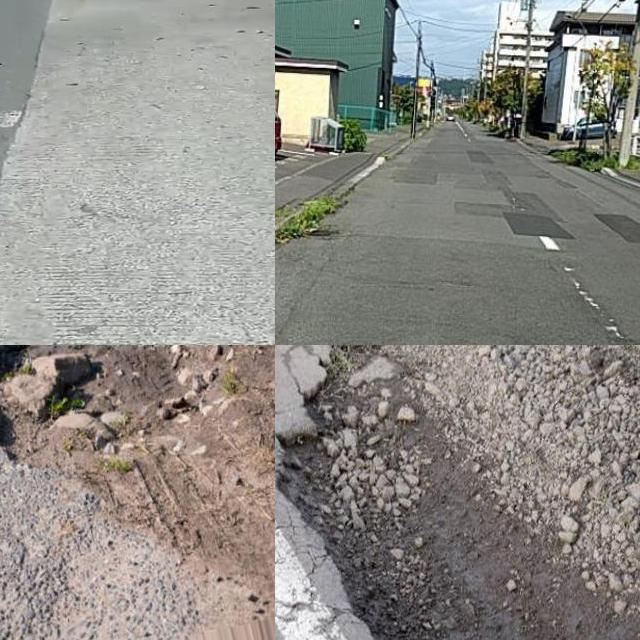Pinggir: (276, 345, 640, 640), (0, 345, 240, 554)
Sambungan: (0, 0, 275, 345), (502, 207, 573, 239), (600, 213, 640, 245)
